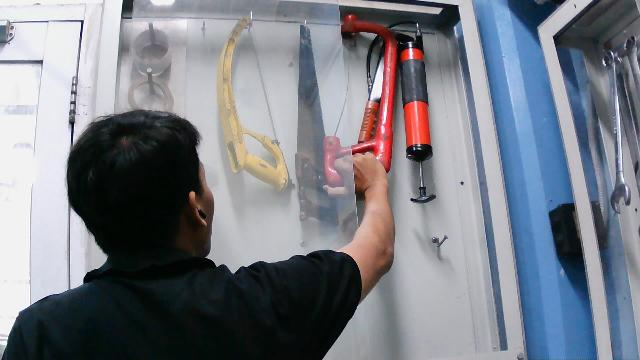gergaji_besi: (324, 9, 398, 196)
